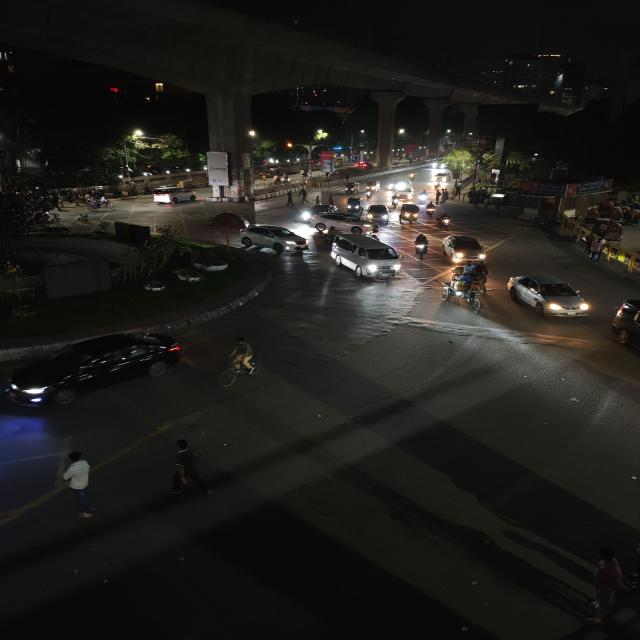car: (2, 328, 185, 410), (504, 272, 595, 322), (328, 233, 406, 282), (608, 295, 640, 370), (241, 223, 311, 255), (439, 232, 494, 264), (150, 186, 200, 206), (300, 204, 332, 224), (364, 204, 392, 222), (395, 186, 415, 202), (431, 170, 452, 184)
cng: (397, 204, 422, 225), (344, 196, 364, 214), (342, 182, 360, 195), (364, 180, 380, 193)
motorcycle: (412, 231, 432, 259), (364, 222, 383, 240), (434, 213, 452, 231)
pedestrian: (162, 436, 217, 498), (57, 449, 103, 521), (222, 334, 262, 384), (583, 235, 606, 263), (284, 189, 296, 208), (436, 188, 448, 204), (297, 188, 308, 204), (451, 186, 461, 200), (325, 194, 335, 207), (312, 194, 320, 205)
rickshaw: (439, 262, 491, 308), (82, 196, 122, 213), (414, 189, 430, 204)
